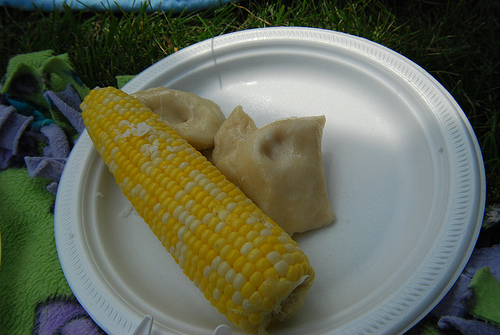corn: (79, 83, 311, 322)
